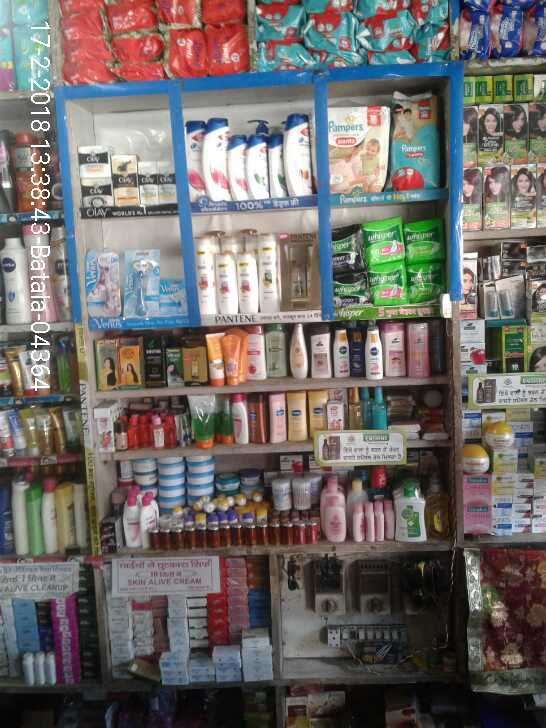venus: (86, 248, 120, 314), (128, 246, 160, 312), (160, 280, 186, 312)
